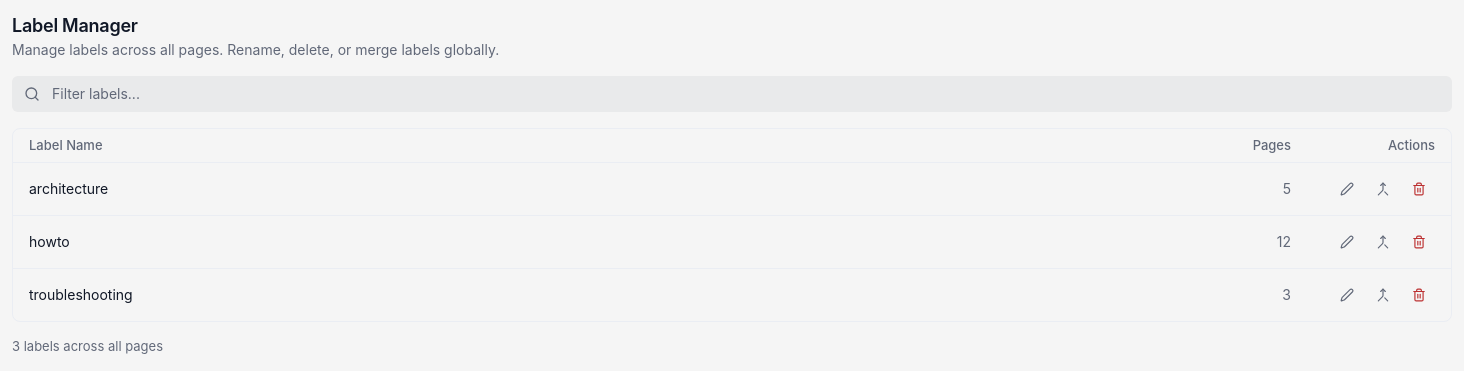
Test: LabelManager › shows delete confirmation when delete button is clicked
What coordinates should you click on to do the following:
click the button with test id "delete-architecture"
I would click on:
 (1419, 189)
Its box is [1403,173,1435,205].
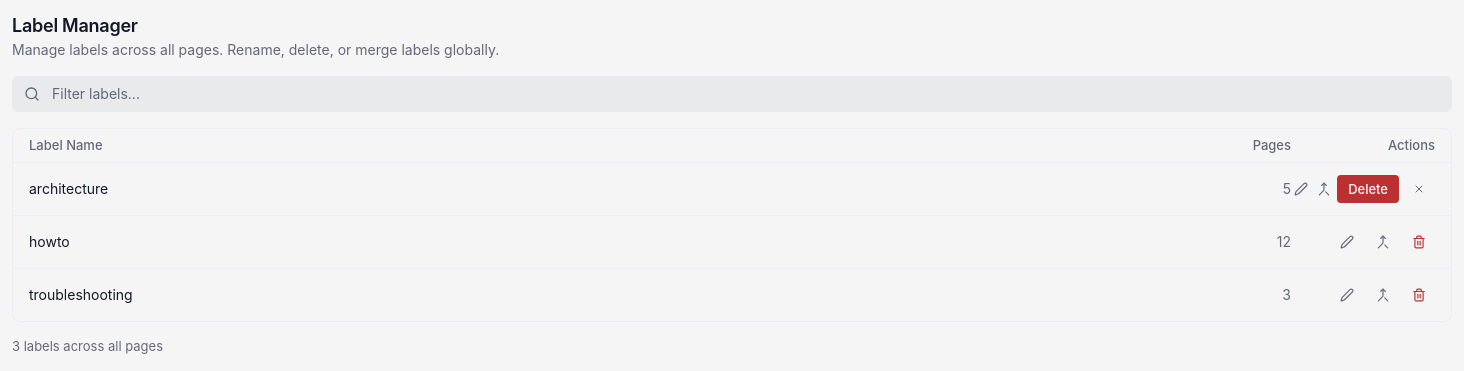
Expected: the button with test id "delete-confirm-architecture" is shown, [1337,175,1399,203]
